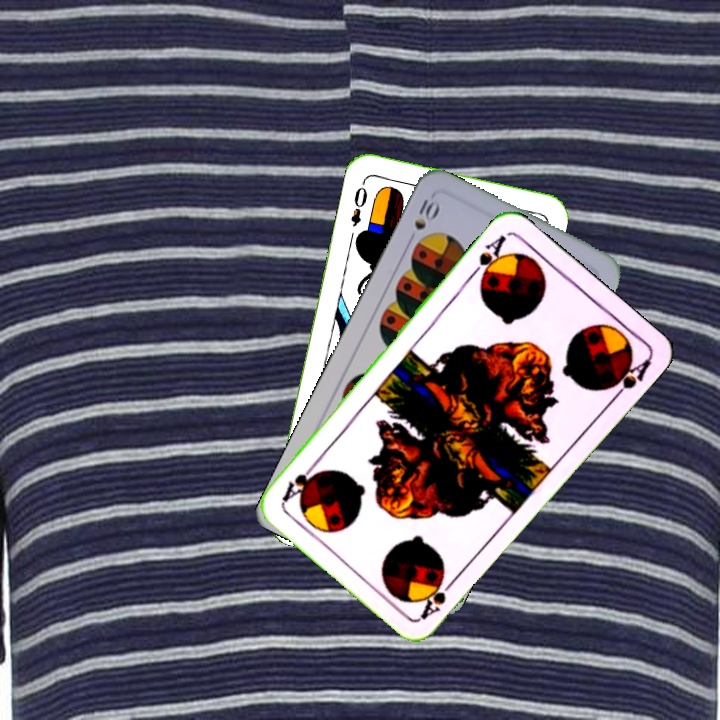EO: (347, 182, 370, 230)
S10: (403, 191, 443, 247)
SA: (465, 230, 509, 286), (416, 572, 460, 622)
